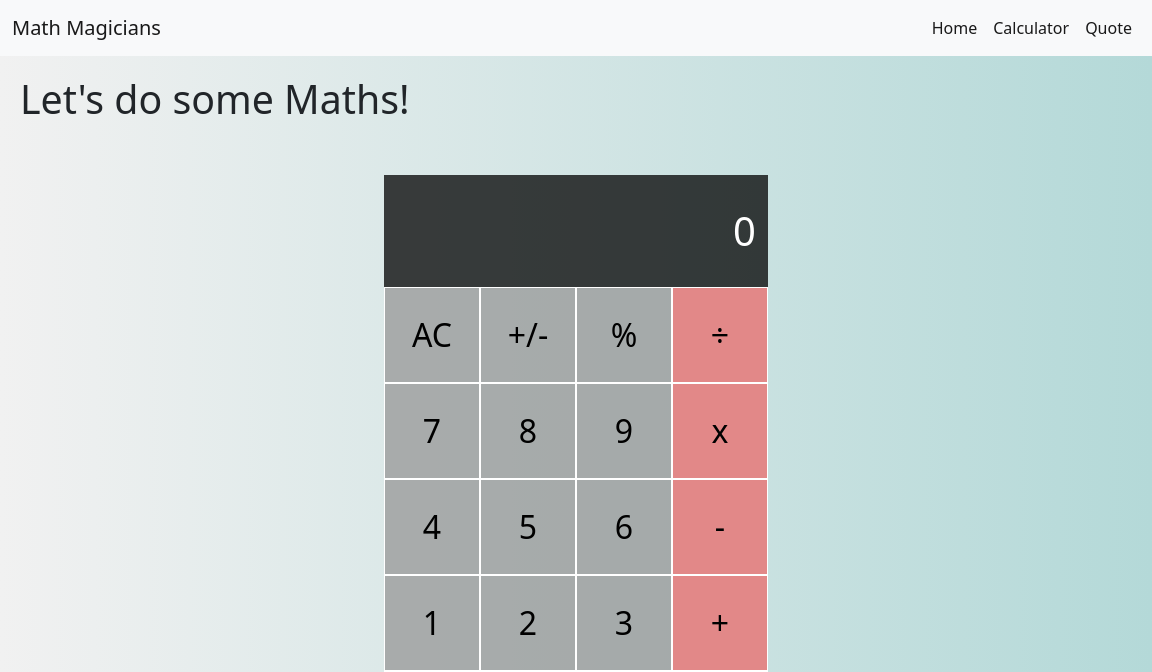
If the user clicks on 7 and +/-, -7 will be printed in calculator
The image size is (1152, 672).
Click the button "7": (432,431) [384,383,480,479]
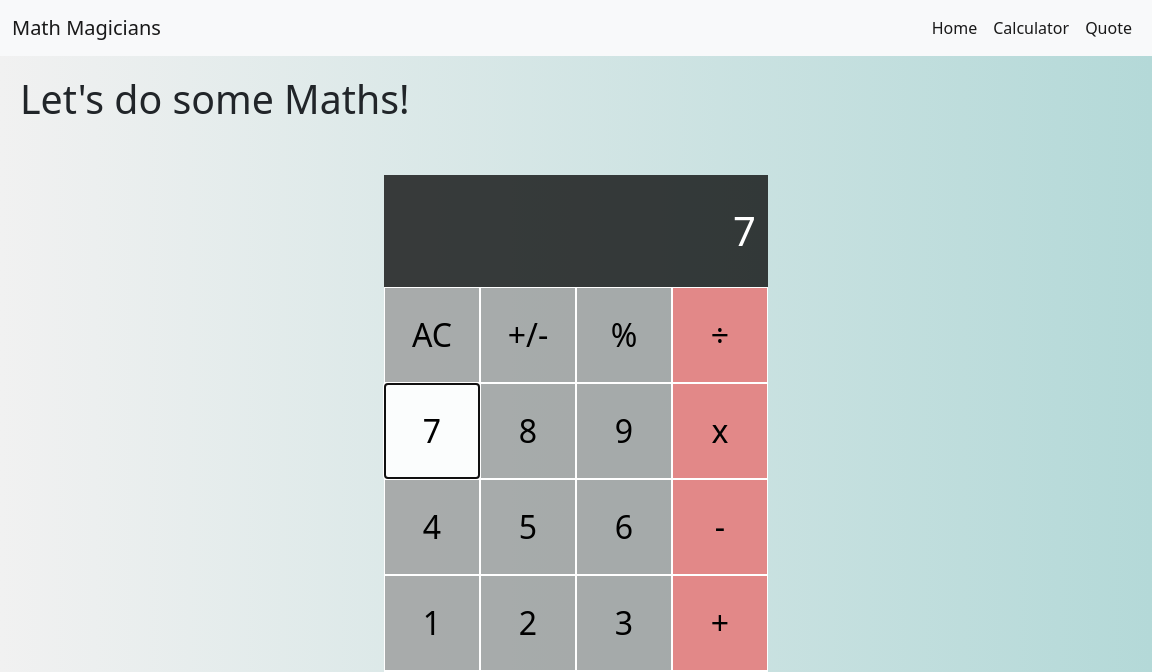
Click the button with test id "+/-": (528,335) [480,287,576,383]
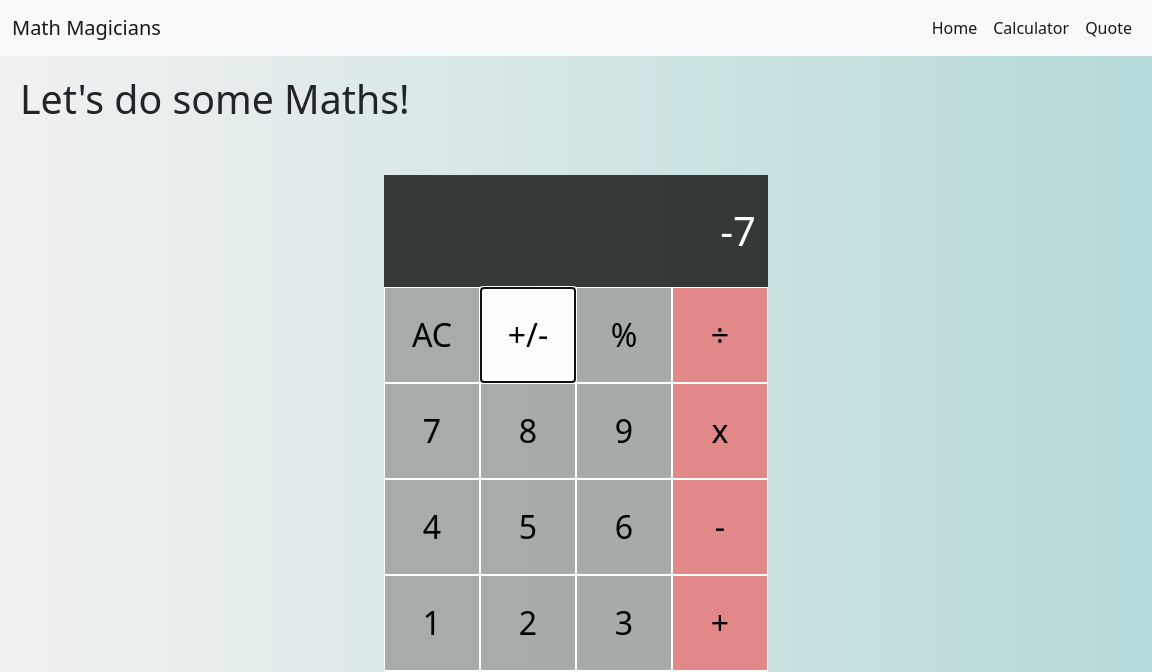
Check: the text "-7" is shown, box [720,201,756,261]
